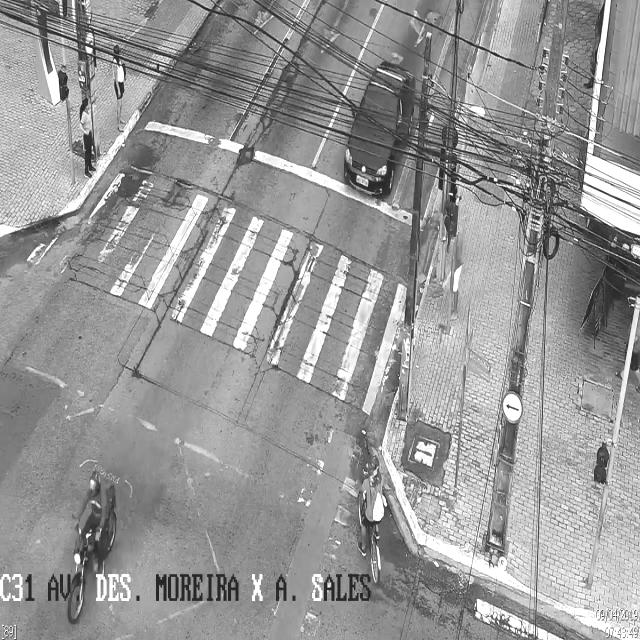Car: (345, 62, 413, 198)
Motorcycle: (67, 470, 115, 625)
